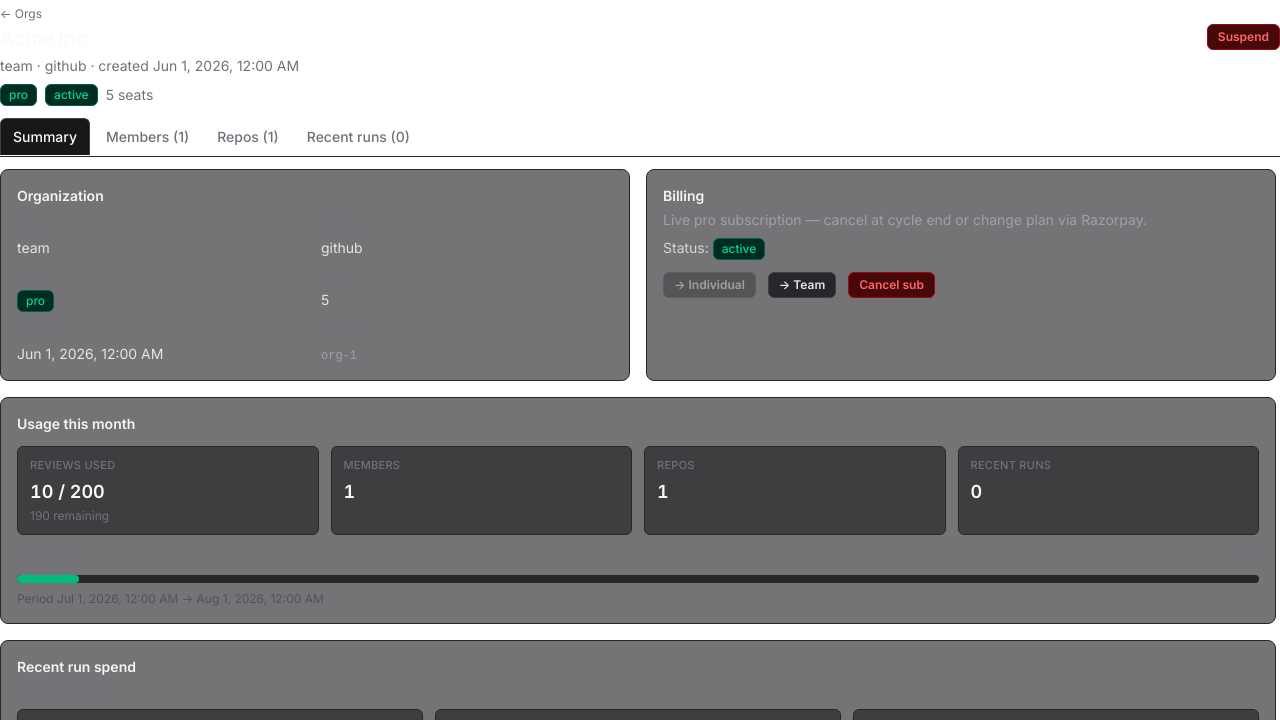
Test: OrgDetail page › shows the action error in the dialog and keeps it open when the mutation fails
Click the button "Suspend" at (1243, 37), box [1207,24,1279,50]
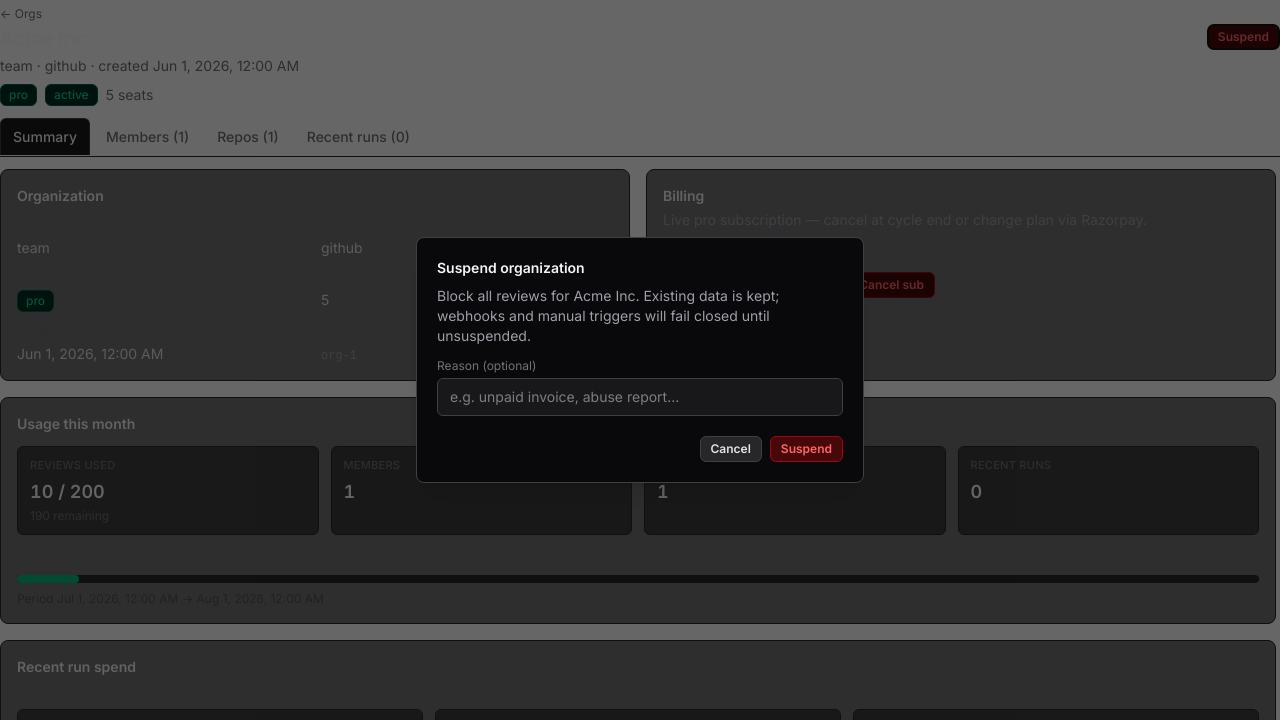
Click the button "Suspend" at (806, 449), box [770,436,843,462]
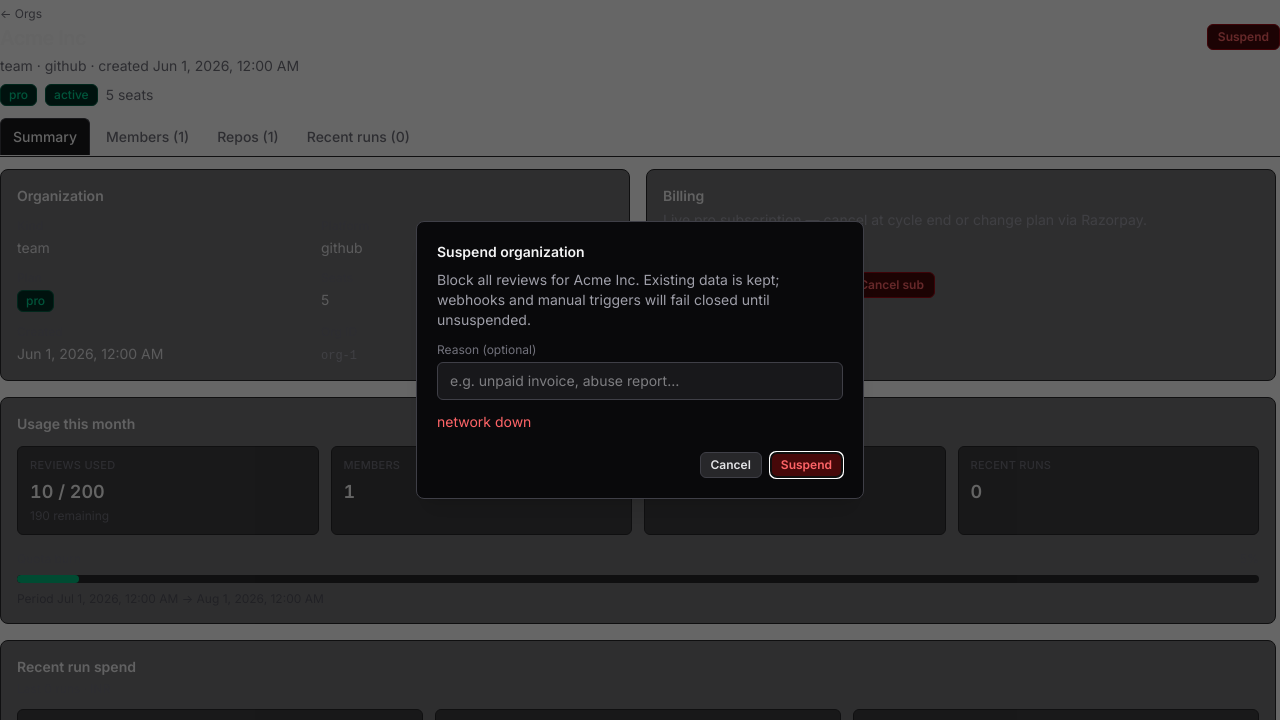
Result: the dialog is shown
Result: the text "network down" is shown at [437,413,531,430]
